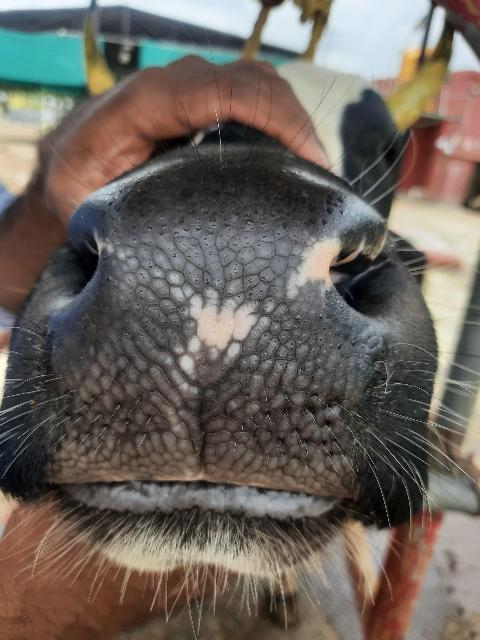Muzzle: (75, 196, 385, 500)
